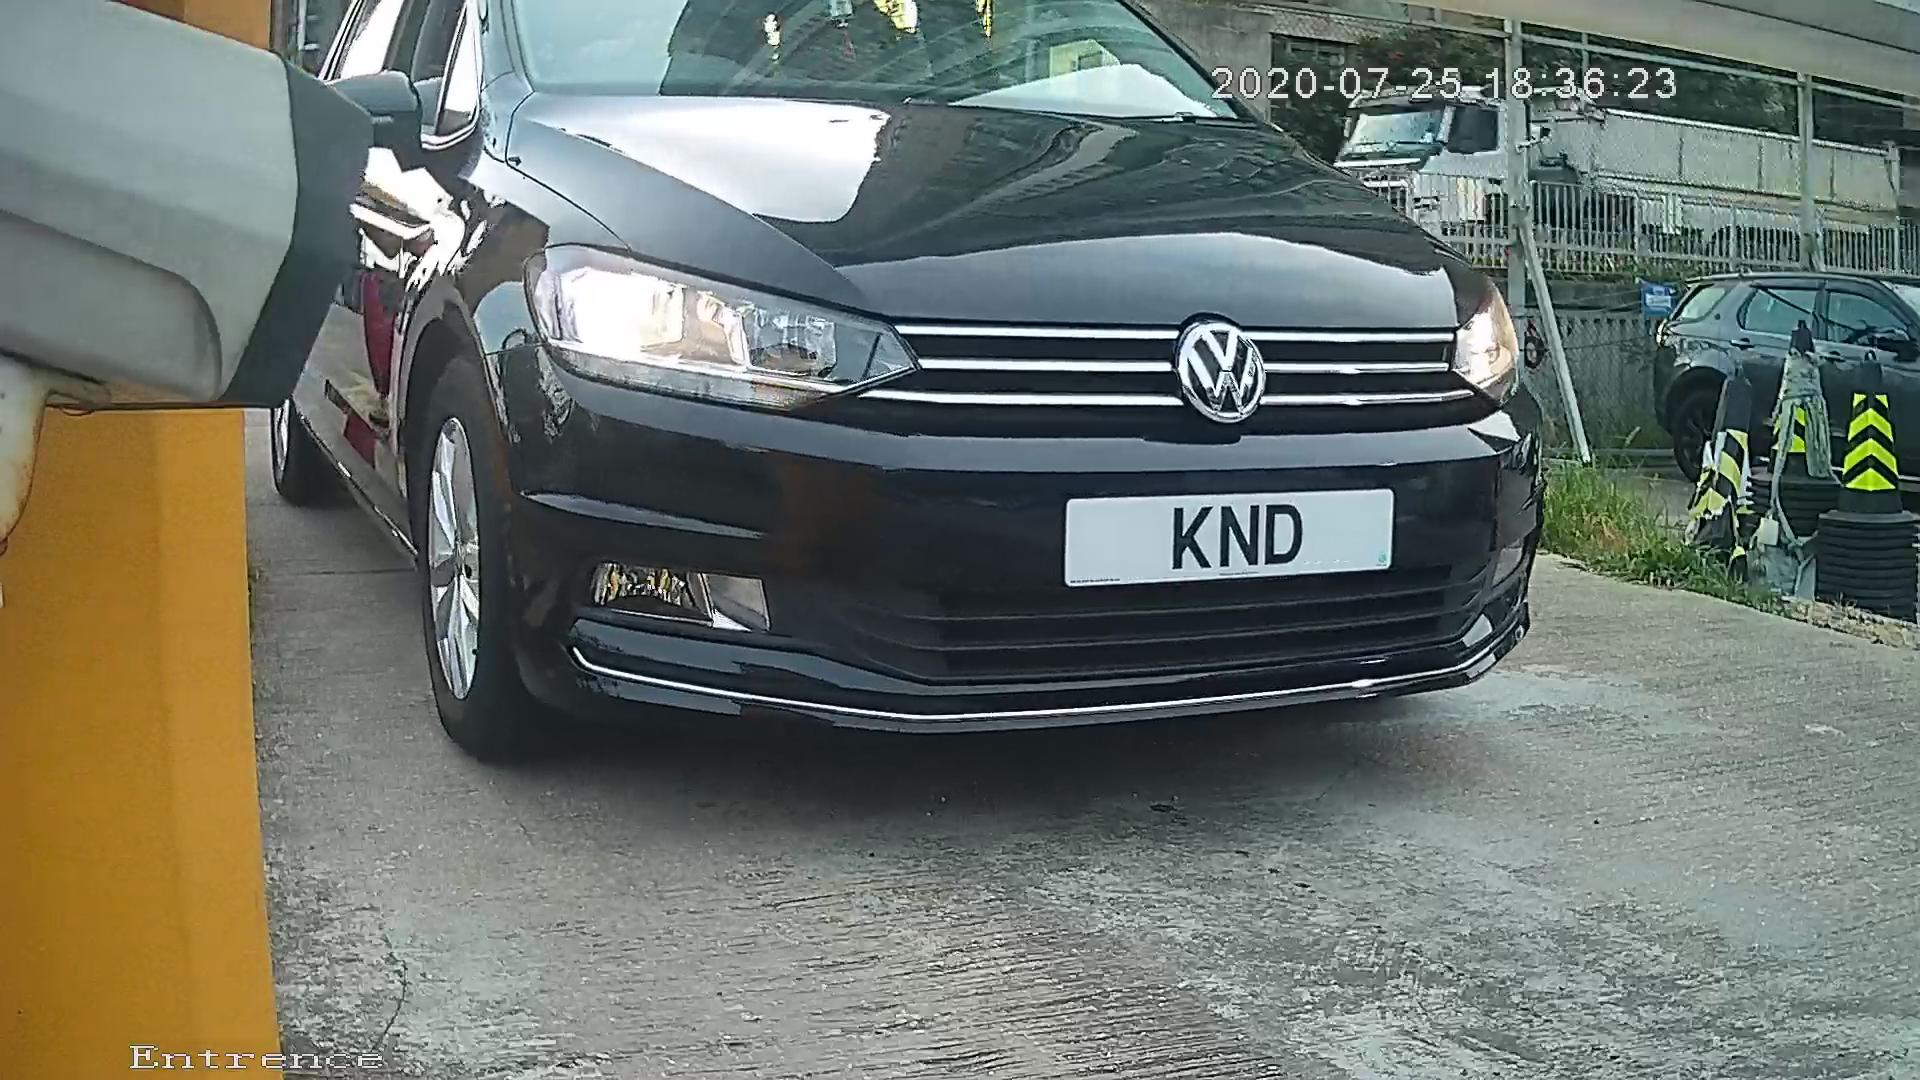License Plate: (1038, 478, 1406, 589)
